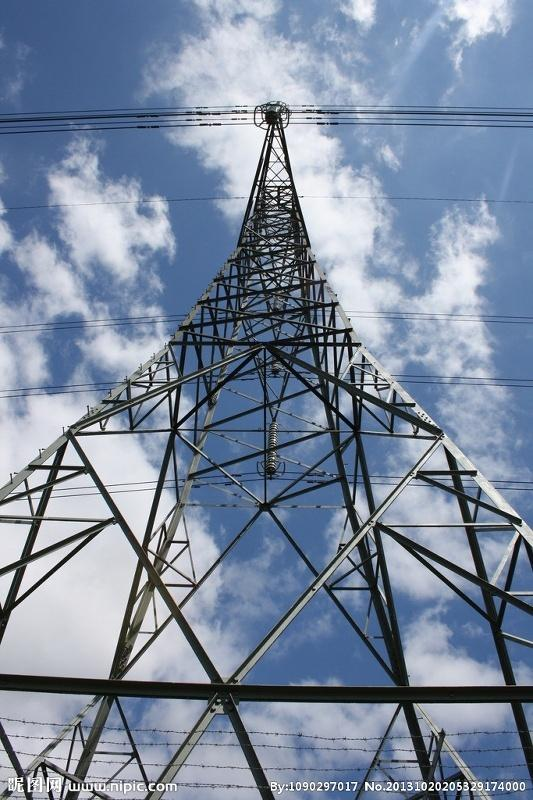power_tower: (6, 96, 530, 735)
